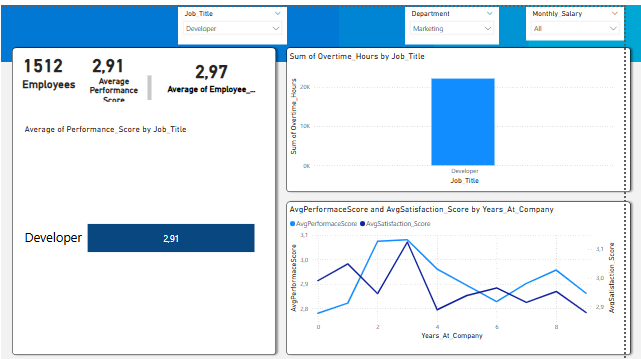

The page's visual inventory and layout, read from the dashboard file:
{"tool":"powerbi","page":{"name":"Page 2","canvas":[1280,720],"ordinal":1},"visuals":[{"type":"card","fields":{"Values":["dimEmployee.CountEmployees"]},"box":[0,60,235,106.7],"z":0},{"type":"textbox","box":[38.3,135,183.3,40],"z":1000},{"type":"card","fields":{"Values":["factEmployee_Productivity.Measure"]},"box":[188.3,66.7,121.7,96.7],"z":2000},{"type":"textbox","box":[188.3,131.7,151.7,63.3],"z":3000},{"type":"card","fields":{"Values":["Avg(factEmployee_Productivity.Employee_Satisfaction_Score)"]},"box":[358.3,66.7,193.3,140],"z":4000},{"type":"clusteredColumnChart","fields":{"Category":["dimEmployee.Job_Title"],"Y":["Sum(factEmployee_Productivity.Overtime_Hours)"]},"box":[606.7,88.3,660,271.7],"z":5000},{"type":"funnel","fields":{"Y":["Avg(factEmployee_Productivity.Performance_Score)"],"Category":["dimEmployee.Job_Title"]},"box":[76.7,233.3,475,436.7],"z":6000},{"type":"slicer","fields":{"Values":["factEmployee_Productivity.Monthly_Salary"]},"box":[1083.3,0,196.7,66.7],"z":7000},{"type":"lineChart","fields":{"Y":["factEmployee_Productivity.AvgPerformaceScore"],"Category":["dimEmployee.Years_At_Company"],"Y2":["factEmployee_Productivity.AvgSatisfaction_Score"]},"box":[606.7,393.3,660,276.7],"z":8000},{"type":"slicer","fields":{"Values":["dimDepartment.Department"]},"box":[841.7,0,188.3,75],"z":8001},{"type":"slicer","fields":{"Values":["dimEmployee.Job_Title"]},"box":[388.3,0,218.3,75],"z":8002}]}

Visuals, with their boxes in screenshot pixels (x1, y1, x2, y2), scaled from the page's 1280x720 canvas onto the 641x359 screenshot:
card - dimEmployee.CountEmployees: box=[0, 30, 118, 83]
textbox: box=[19, 67, 111, 87]
card - factEmployee_Productivity.Measure: box=[94, 33, 155, 81]
textbox: box=[94, 66, 170, 97]
card - Avg(factEmployee_Productivity.Employee_Satisfaction_Score): box=[179, 33, 276, 103]
clusteredColumnChart - dimEmployee.Job_Title x Sum(factEmployee_Productivity.Overtime_Hours): box=[304, 44, 634, 180]
funnel - Avg(factEmployee_Productivity.Performance_Score) x dimEmployee.Job_Title: box=[38, 116, 276, 334]
slicer - factEmployee_Productivity.Monthly_Salary: box=[542, 0, 640, 33]
lineChart - factEmployee_Productivity.AvgPerformaceScore x dimEmployee.Years_At_Company: box=[304, 196, 634, 334]
slicer - dimDepartment.Department: box=[422, 0, 516, 37]
slicer - dimEmployee.Job_Title: box=[194, 0, 304, 37]
